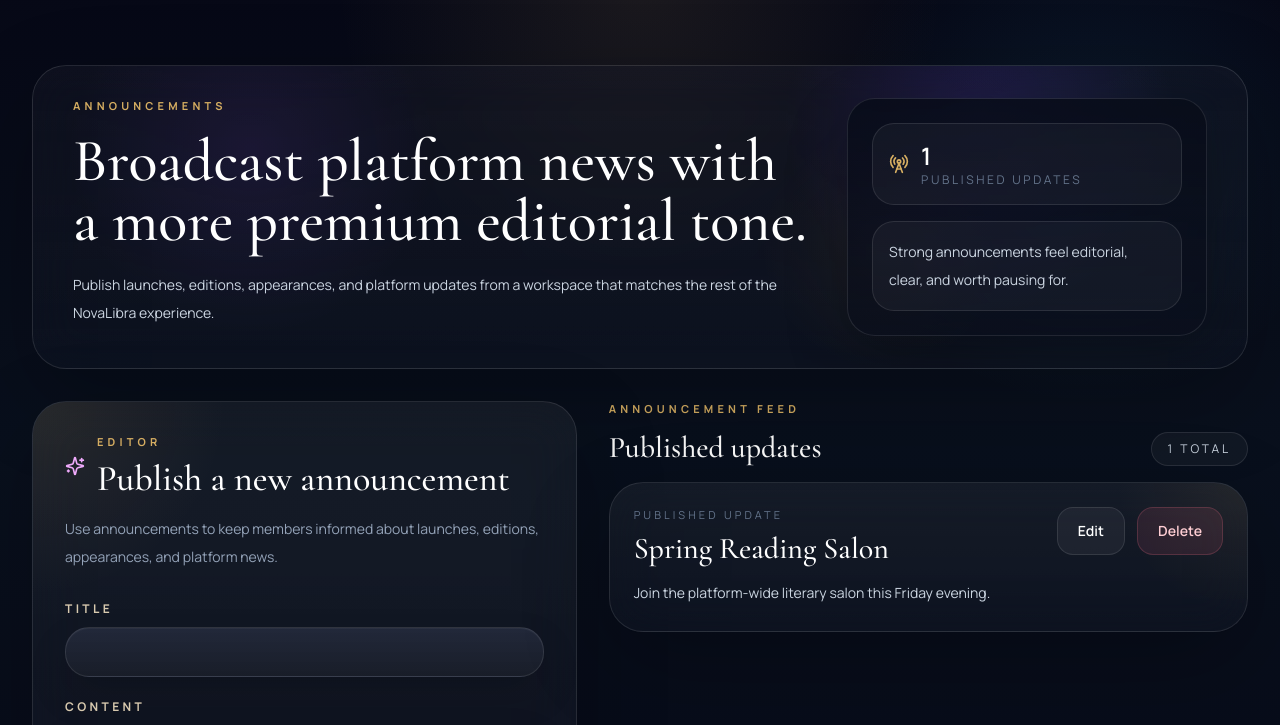
Admin experience pages › admin announcements page supports publish, edit, and delete
The image size is (1280, 725).
Expected: the heading "Publish a new announcement" is shown, [97,458,510,498]
Step 1. Type "Autumn Salon" into the field labelled "Title" → [304, 652], box [65,626,544,676]
(page scrolled)
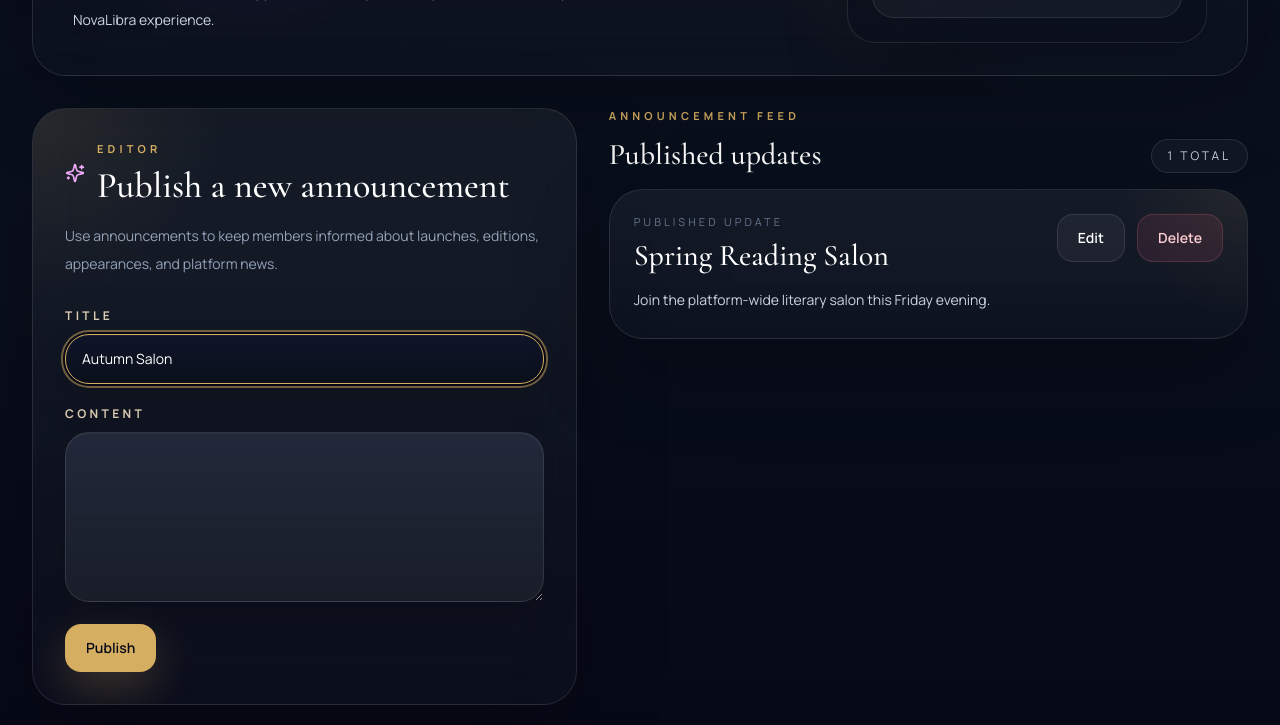
Step 2. Type "The Autumn Salon is now open for member reservations and featured readings." into the text box labelled "Content" → [304, 516], box [65,432,544,602]
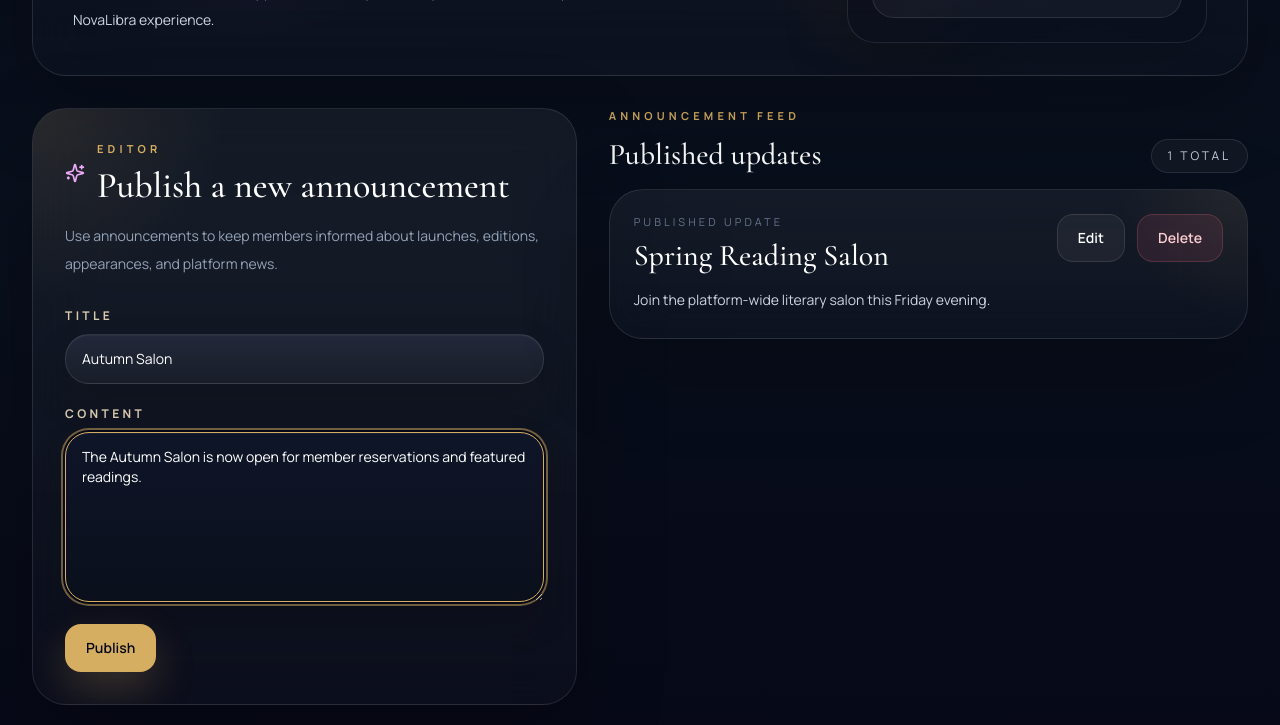
Step 3. Click the button "Publish" → [111, 648], box [65,624,156,672]
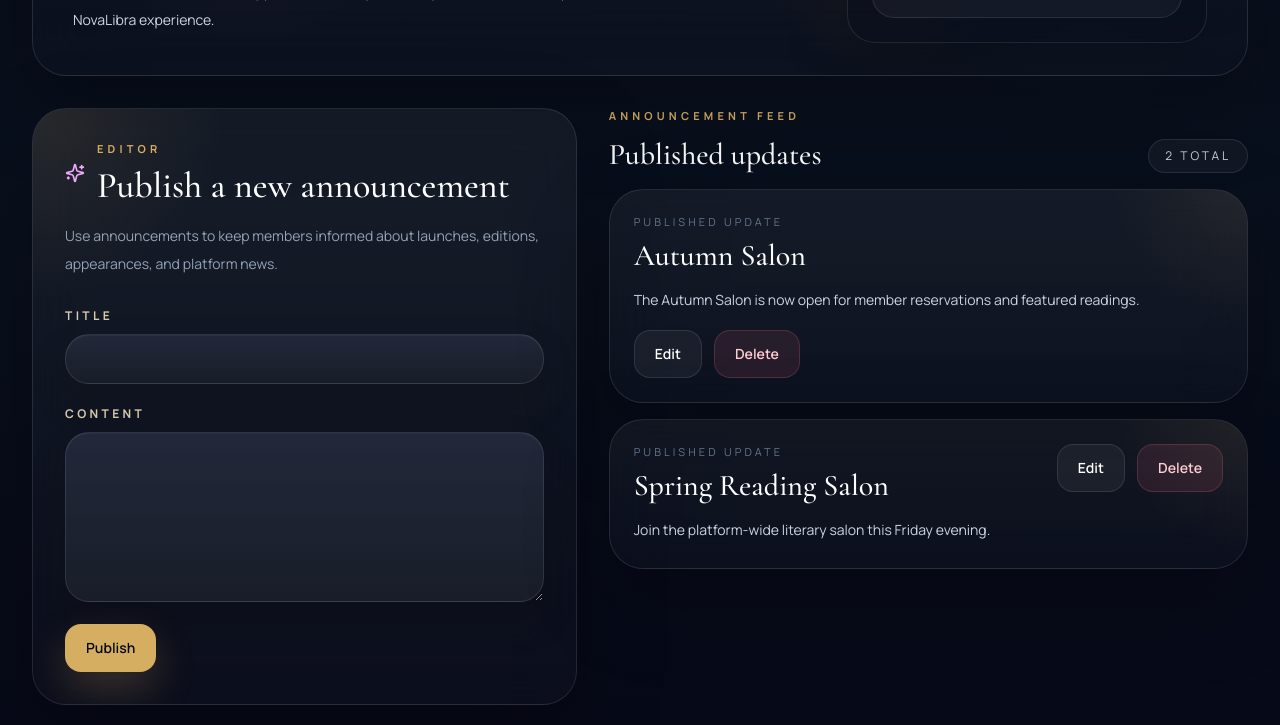
Expected: the heading "Autumn Salon" is shown, [634,237,806,274]
Step 4. Click the 1st button "Edit" → [668, 354], box [634,330,702,378]
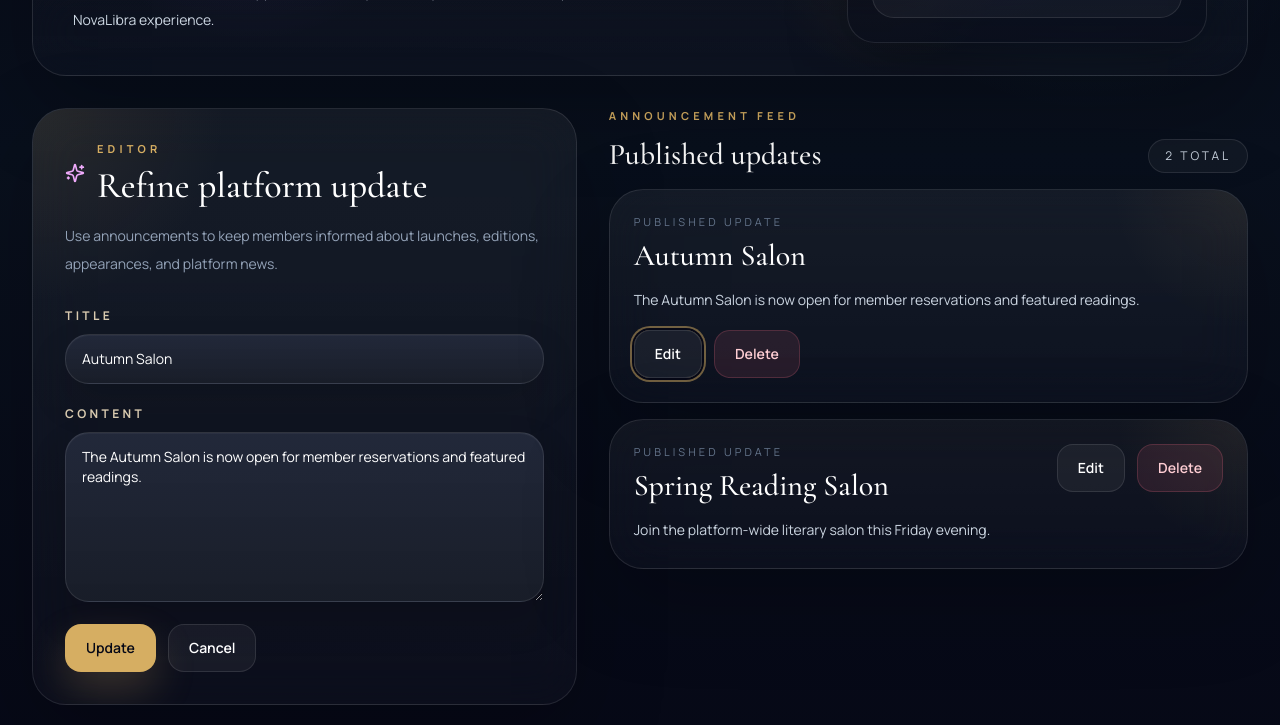
Step 5. Replace the text in the field labelled "Title" with "Autumn Salon Updated" → [304, 358], box [65,334,544,384]
Step 6. Click the button "Update" → [110, 648], box [65,624,156,672]
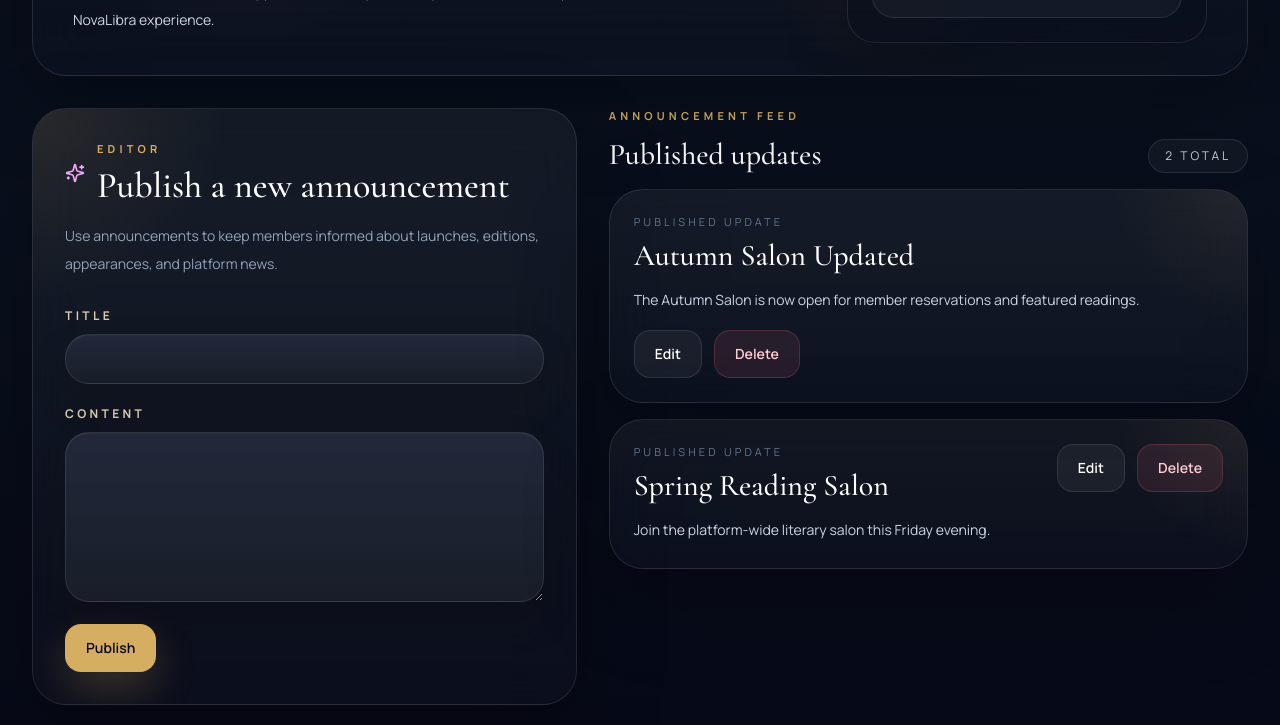
Expected: the heading "Autumn Salon Updated" is shown, [634,237,914,274]
Step 7. Click the button "Delete" below "Autumn Salon Updated" → [757, 354], box [714,330,800,378]
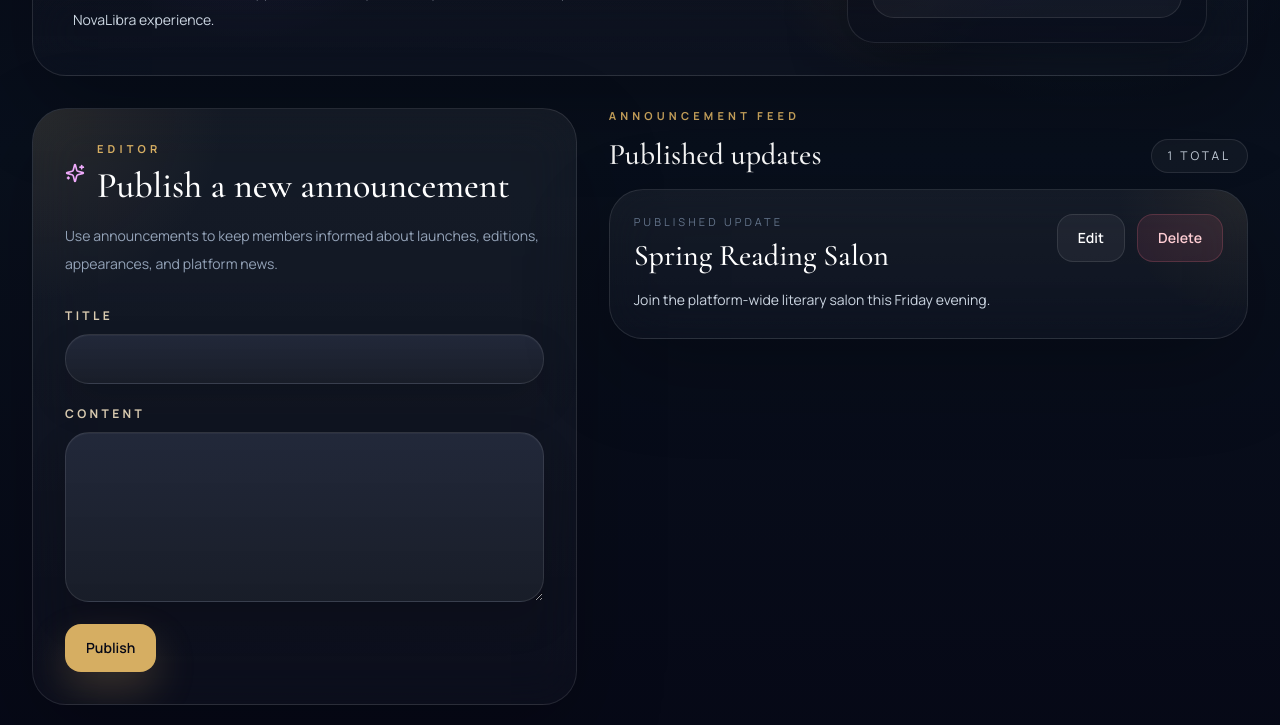
Expected: the heading "Autumn Salon Updated" is gone
